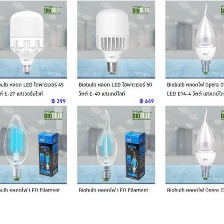carton: (121, 128, 148, 181), (36, 128, 60, 179)
light_bulb: (6, 7, 46, 76), (93, 6, 132, 76), (191, 106, 218, 183), (191, 0, 217, 75), (93, 107, 119, 182), (2, 113, 29, 180)
